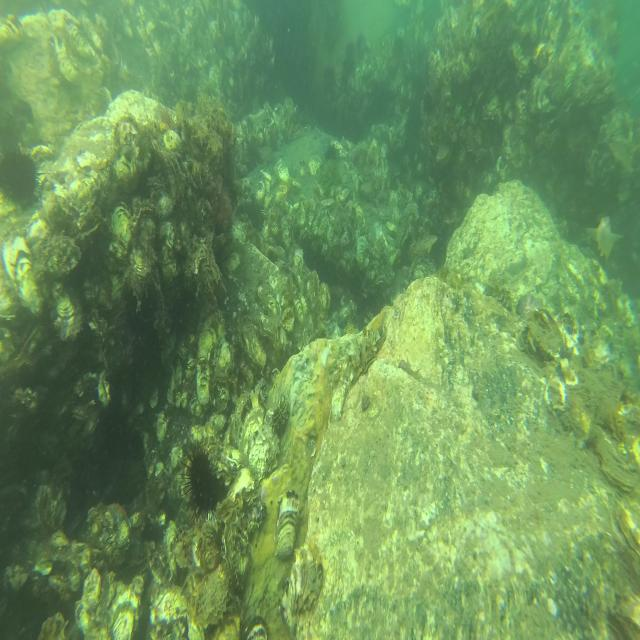echinus: (179, 442, 228, 523), (2, 144, 42, 210)
starfish: (104, 499, 136, 526)
